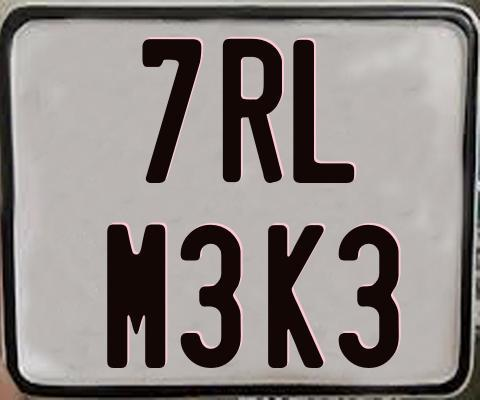3: (179, 224, 243, 372), (338, 224, 400, 370)
7: (140, 38, 199, 185)
K: (268, 223, 328, 368)
L: (293, 40, 354, 185)
M: (107, 223, 171, 367)
R: (222, 39, 287, 185)
